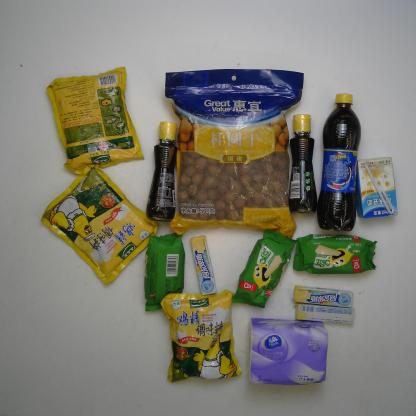Candy: (188, 232, 219, 299), (290, 282, 355, 310), (293, 301, 357, 326)
Dessert: (229, 226, 301, 310), (291, 228, 380, 278), (141, 230, 187, 314)
Dried Food: (156, 58, 306, 243)
Drink: (314, 88, 363, 235)
Milk: (351, 154, 400, 224)
Seasoner: (38, 160, 161, 290), (40, 60, 146, 178), (157, 285, 245, 386), (144, 116, 180, 226), (283, 110, 320, 216)
Tissue: (245, 314, 330, 388)
